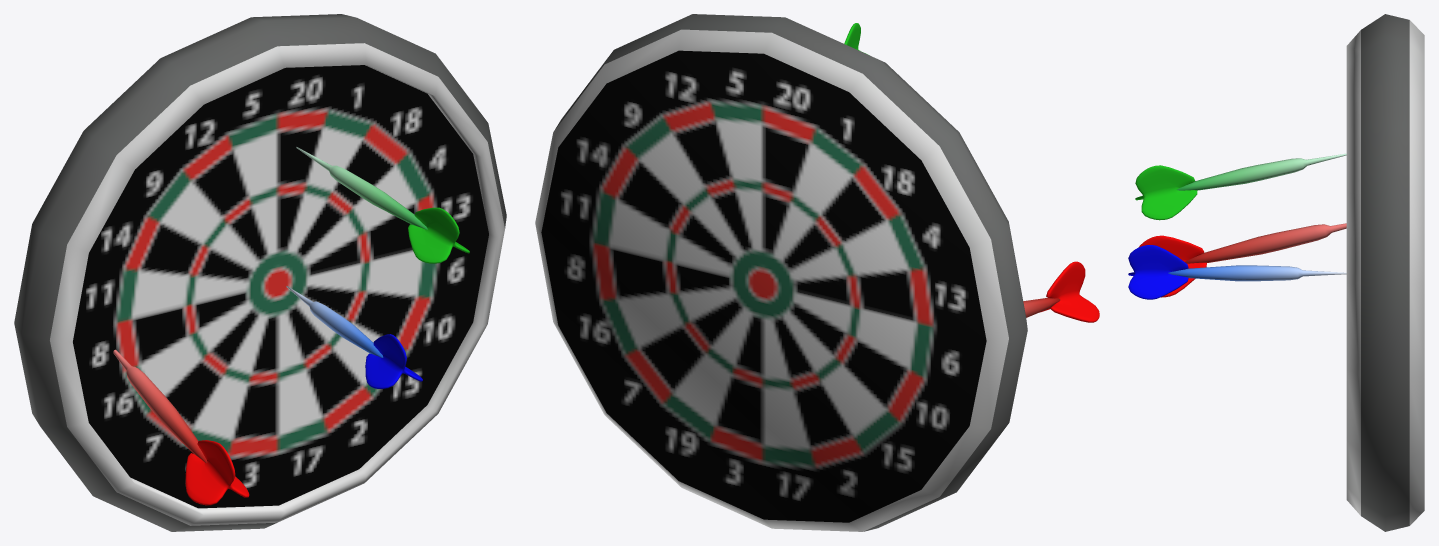
Rendered from Dart.fbx.
3 renders of one model, left to right at view 1: azimuth 30°, elevation 25°; view 2: azimuth 150°, elevation 25°; view 3: azimuth 270°, elevation 25°, orthographic. The views are drawn at different scales.
Visible parts, largest first — view 1: Dart_Plane; view 2: Dart_Plane; view 3: Dart_Plane.
Boxes of the visible parts, x1=… form: Dart_Plane: x1=14, y1=14, x2=506, y2=531; Dart_Plane: x1=535, y1=14, x2=1099, y2=531; Dart_Plane: x1=1128, y1=14, x2=1424, y2=531.
Size of the model in its own units: 0.7028 by 0.7028 by 0.4019.
